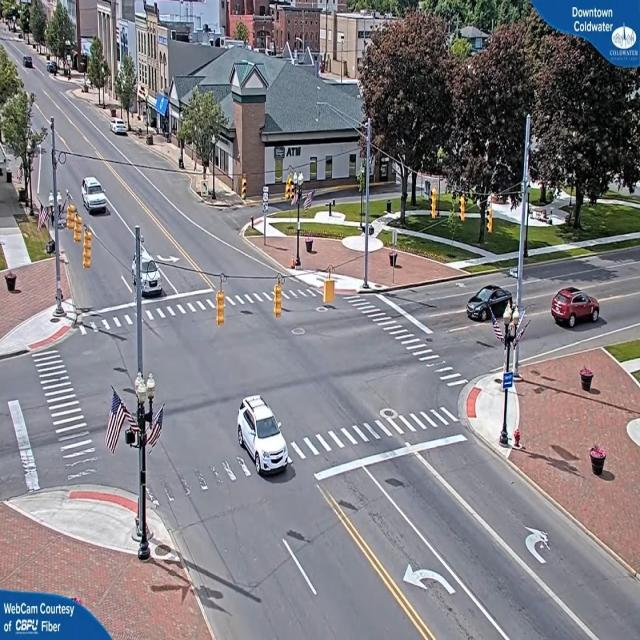car: (236, 397, 291, 477), (466, 283, 520, 326), (550, 286, 602, 330), (132, 235, 164, 302), (82, 176, 109, 215), (112, 120, 129, 136), (23, 56, 34, 69)
